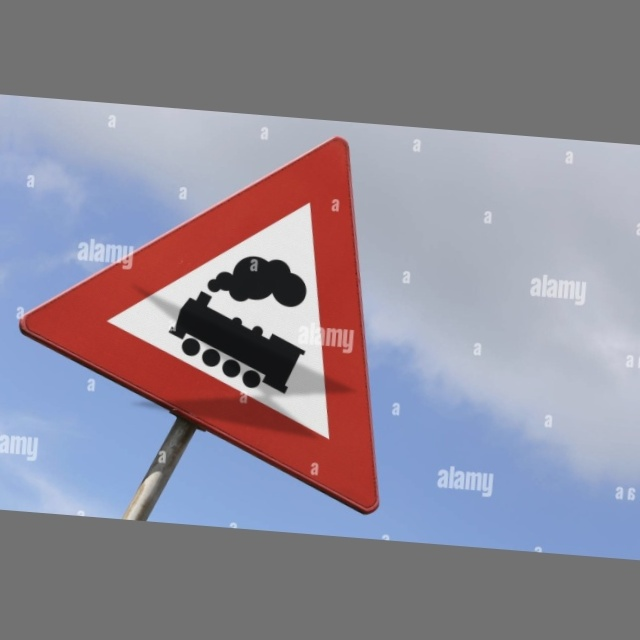Unguarded_Level_Crossing: (47, 120, 408, 466)
